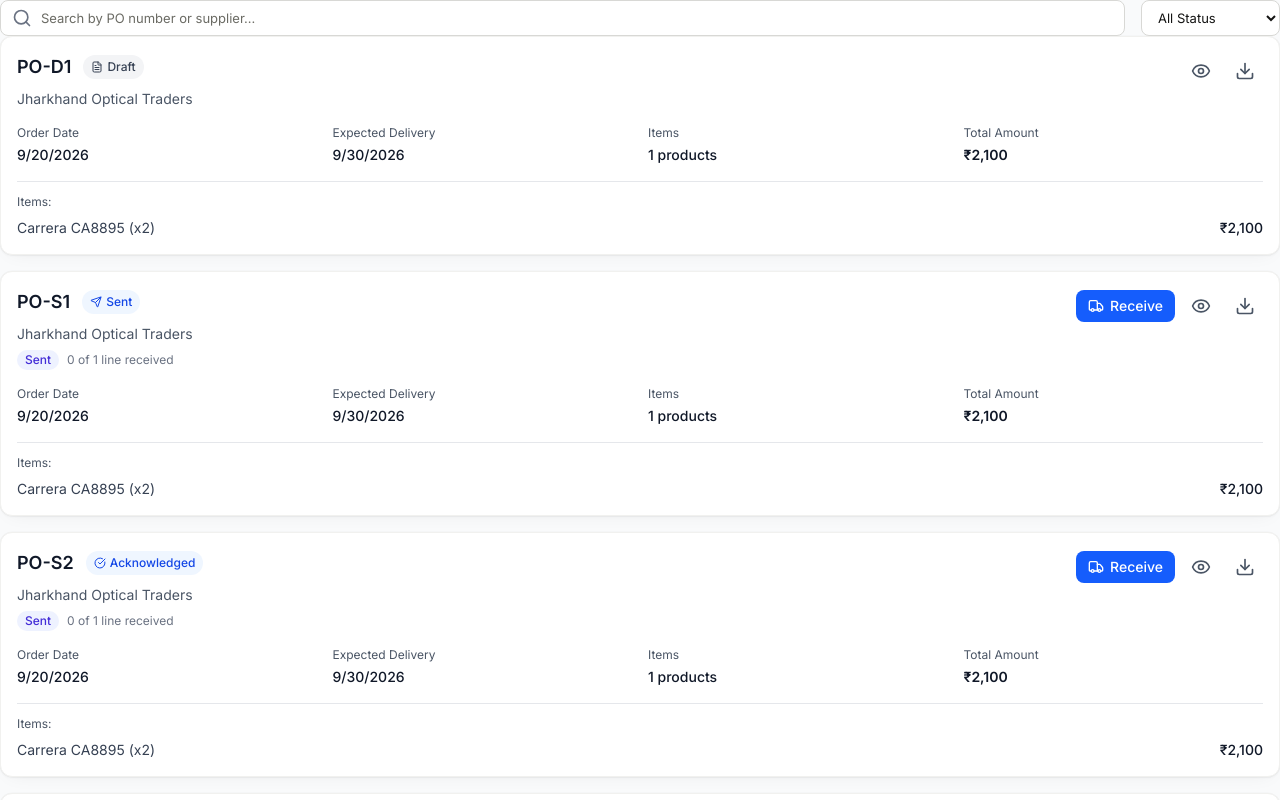
Test case: PO list status filter (F23) › Sent finds the orders with the vendor (sent + acknowledged)
Check: the button "PO-D1" is shown, box [17,53,71,81]
Select "Sent" in the dropdown named "status" at (1210, 18), box [1141,0,1279,36]
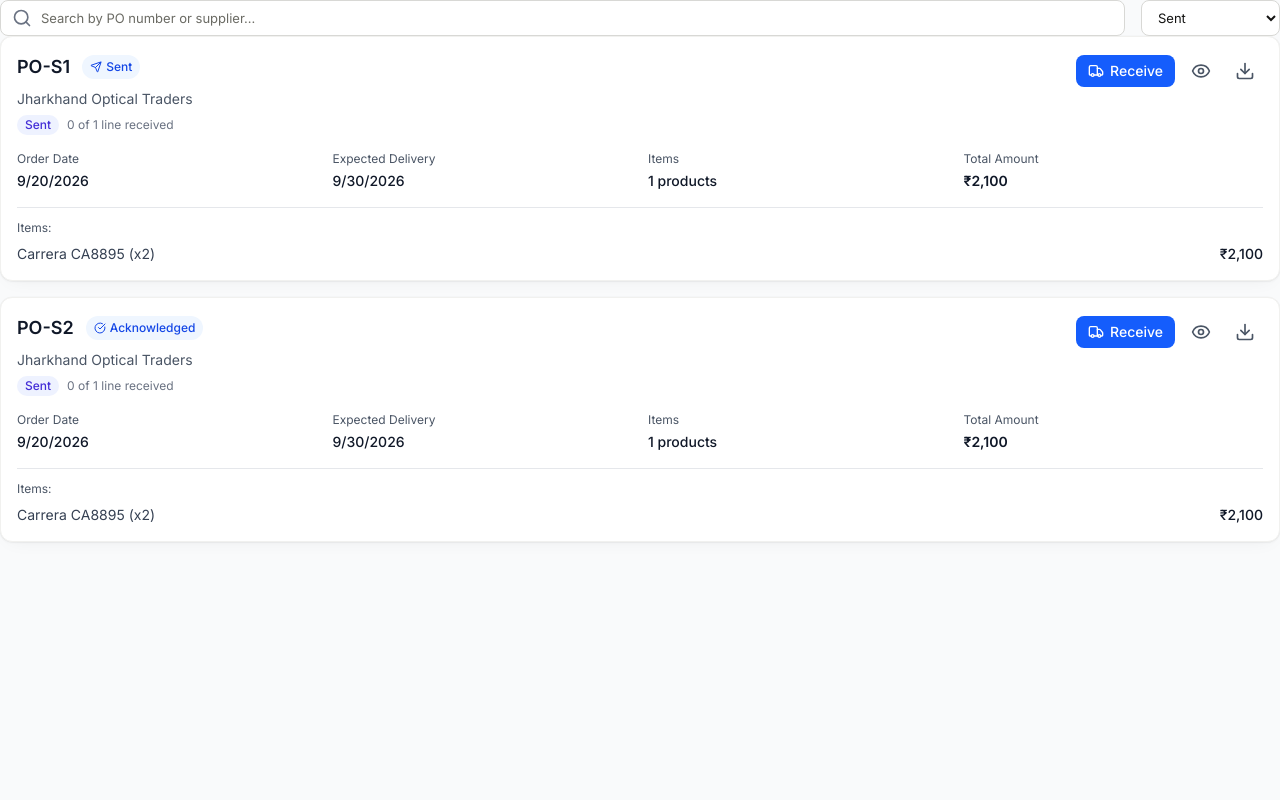
Check: the button "PO-S1" is shown, box [17,53,70,81]
Check: the button "PO-D1" is gone
